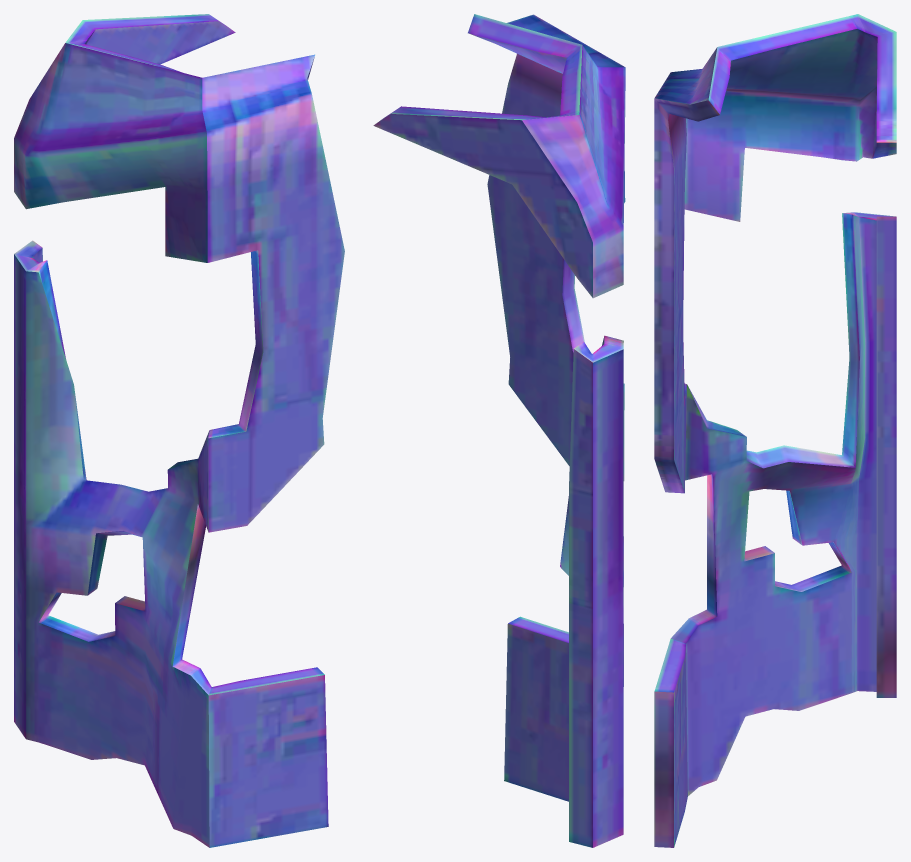
File: debris_01_08.glb
3 renders of one model, left to right at view 1: azimuth 30°, elevation 25°; view 2: azimuth 150°, elevation 25°; view 3: azimuth 270°, elevation 25°, orthographic. The views are drawn at different scales.
Visible parts, largest first — view 1: debris_01_08; view 2: debris_01_08; view 3: debris_01_08.
Boxes of the visible parts, x1=… form: debris_01_08: x1=14, y1=14, x2=344, y2=847; debris_01_08: x1=373, y1=14, x2=625, y2=847; debris_01_08: x1=654, y1=14, x2=896, y2=847.
Bounding box in the file's own units: 0.5698 × 1.84 × 0.5369.
1 material, 1 textured.
